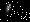person: (6, 3, 13, 17), (18, 4, 24, 15)
